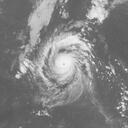cyclone: (29, 32, 91, 107)
